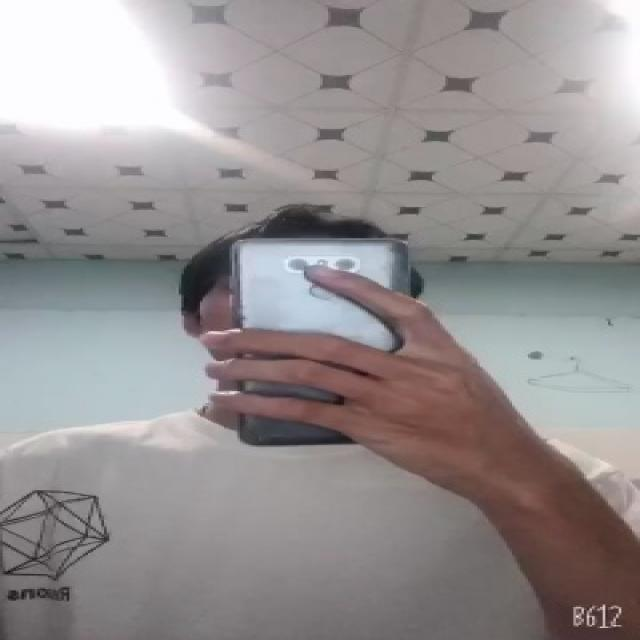Phone: (230, 234, 413, 446)
